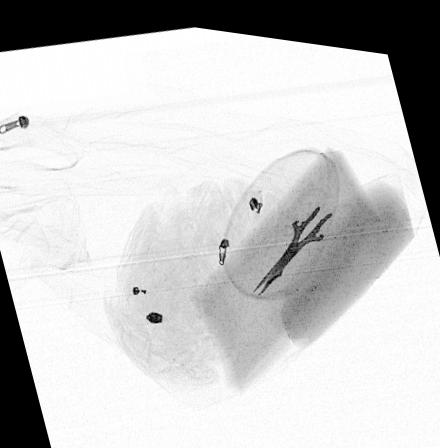Scissors: (251, 176, 358, 289)
